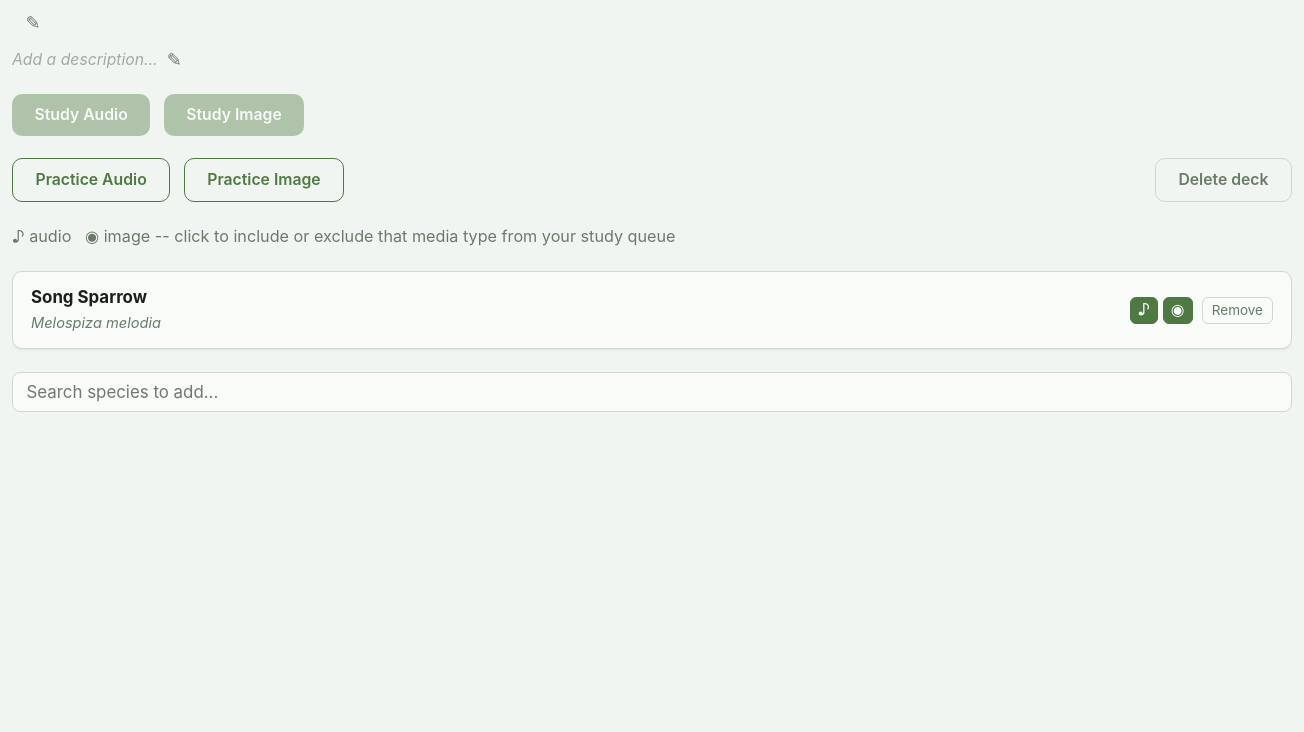
it: Deck detail page › keeps search results and input value after adding a species
The image size is (1304, 732).
Type "fox" into the field with placeholder "Search species to add..." at (652, 392), box [12, 372, 1292, 412]
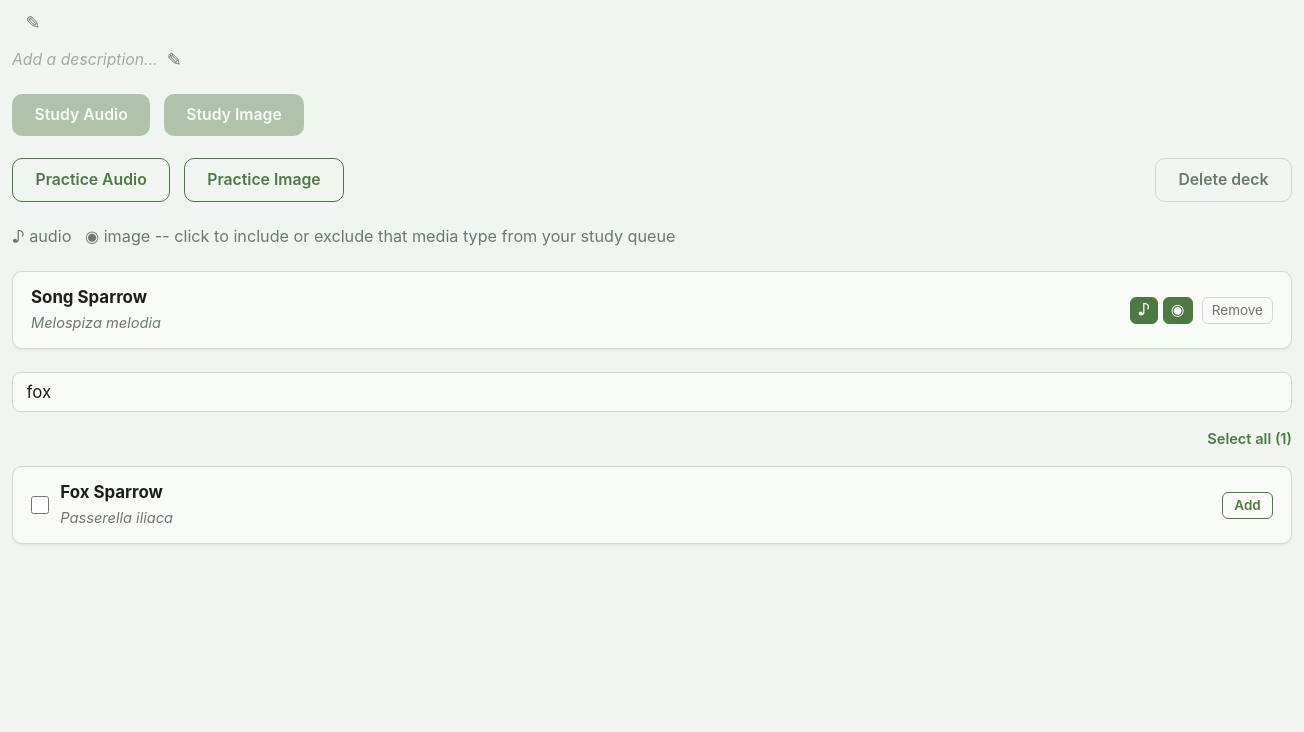
Expected: the button "Add" is shown
Click the button "Add" at (1248, 505), box [1222, 492, 1273, 519]
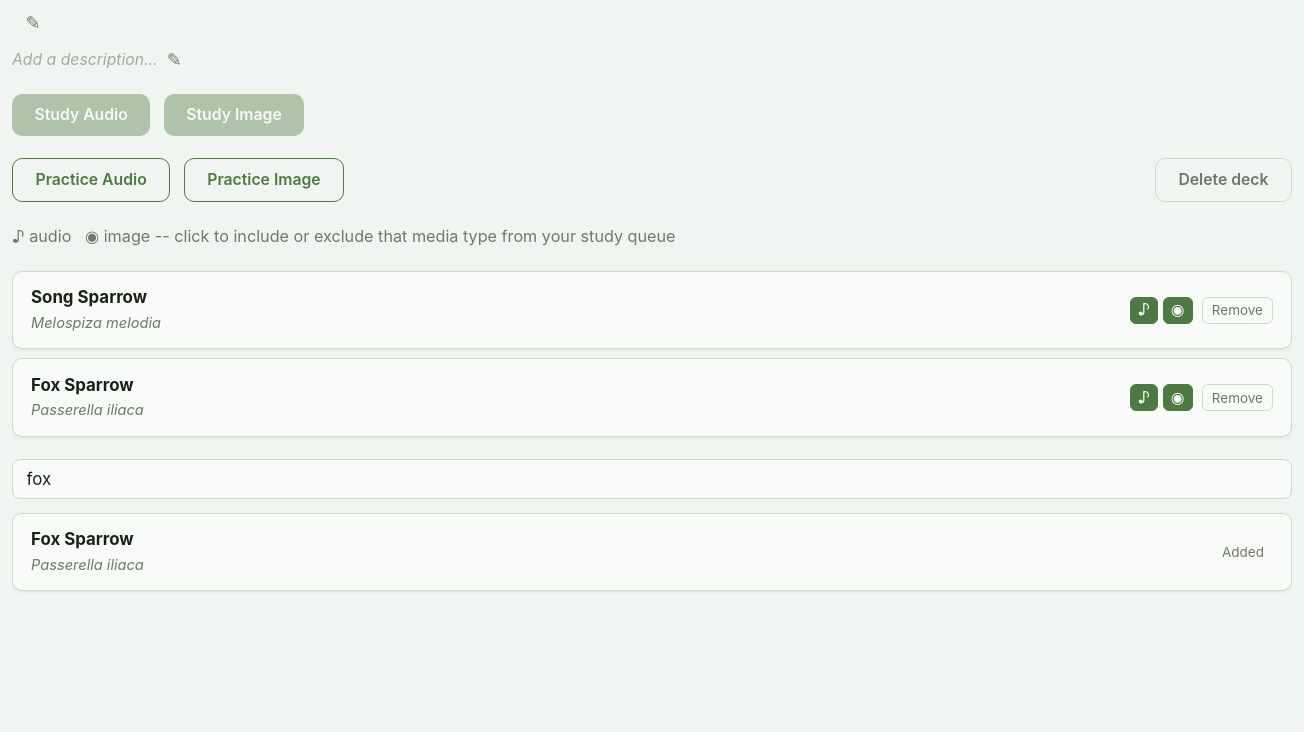
Expected: the text "Fox Sparrow" below "Melospiza melodia" is shown, [31, 375, 134, 395]
